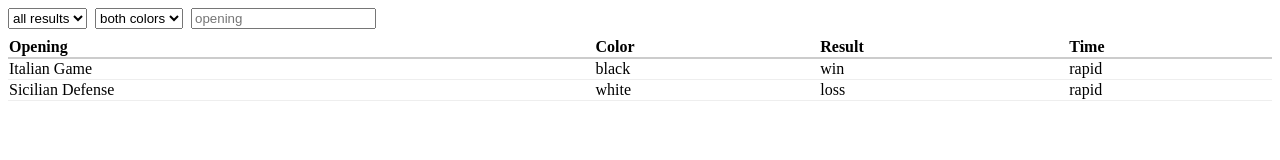
Test: GamesTable › filters by opening search text
Type "sicil" into the field with placeholder "opening". click: (284, 18)
box: [191,8,376,29]
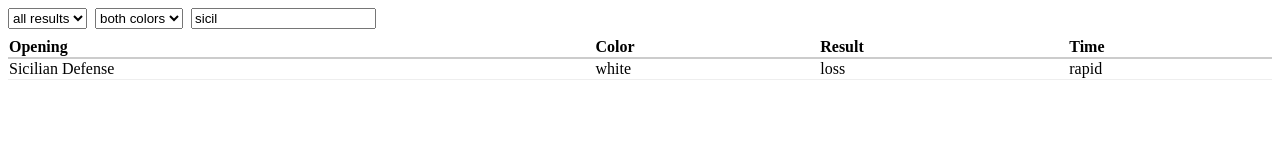
Expected: the text "Sicilian Defense" is shown, [8,58,594,80]
Now the text "Italian Game" is gone
